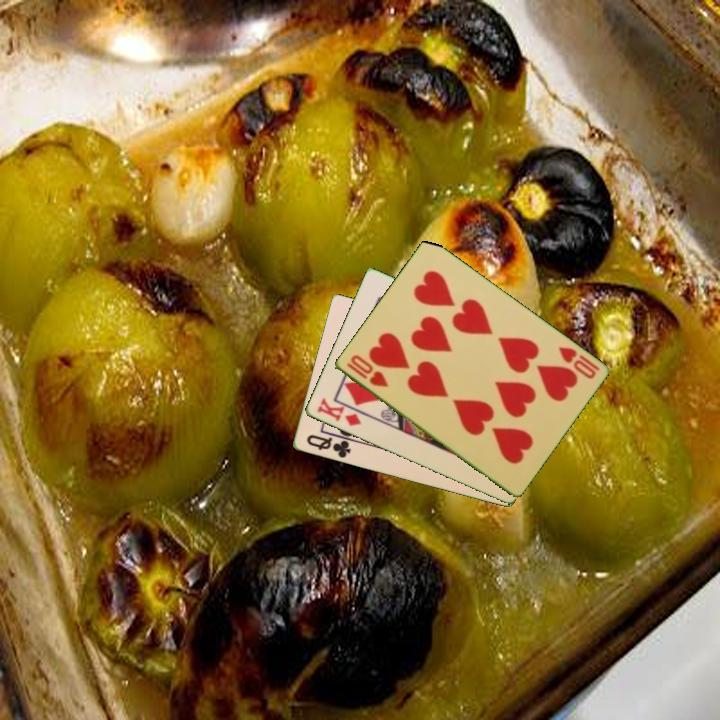10h: (342, 351, 391, 390), (554, 343, 602, 382)
Kd: (313, 394, 364, 430)
Qc: (303, 431, 353, 461)
